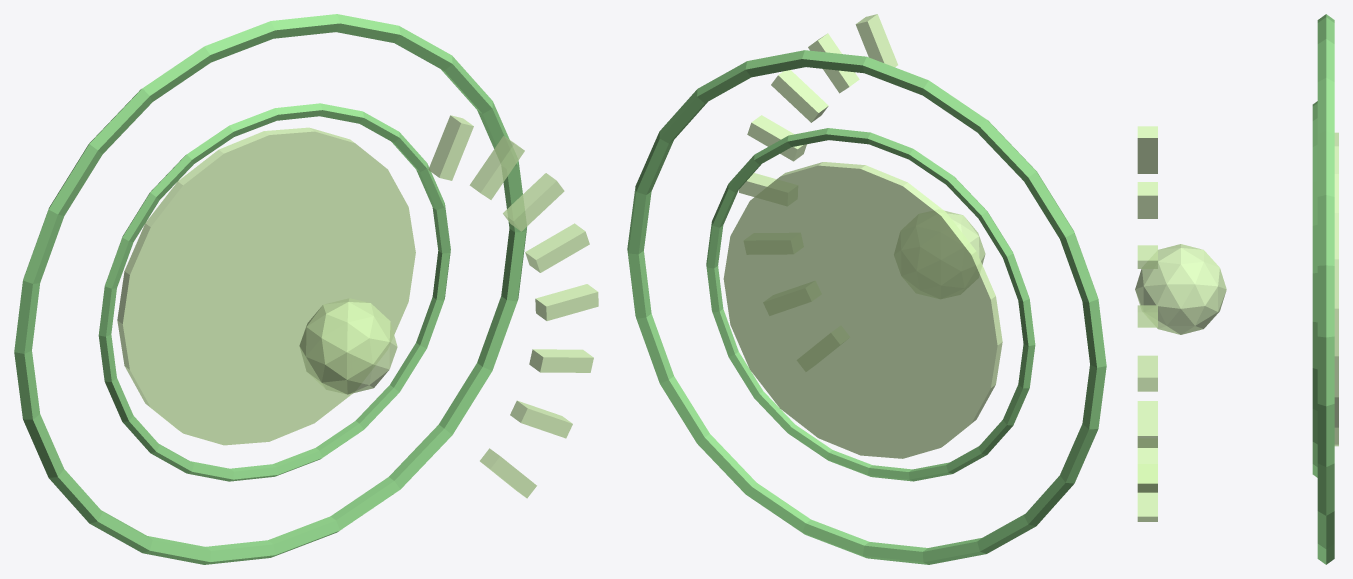
File: 01_class_special_attack_vfx.glb
The picture shows the model from 3 angles, left to right: view 1: azimuth 30°, elevation 25°; view 2: azimuth 150°, elevation 25°; view 3: azimuth 270°, elevation 25°; orthographic projection. The views are drawn at different scales.
Visible parts, largest first — view 1: ability_cast_disc, shockwave, ability_outer_ring, class_energy_core, attack_flow_arc_seg_7, attack_flow_arc_seg_5, attack_flow_arc_seg_6, attack_flow_arc_seg_4, attack_flow_arc_seg_3, attack_flow_arc_seg_2, attack_flow_arc_seg_1, attack_flow_arc_seg_0; view 2: ability_cast_disc, shockwave, ability_outer_ring, attack_flow_arc_seg_5, attack_flow_arc_seg_7, attack_flow_arc_seg_4, attack_flow_arc_seg_6, class_energy_core; view 3: shockwave, class_energy_core, ability_outer_ring, ability_cast_disc, attack_flow_arc_seg_7, attack_flow_arc_seg_2, attack_flow_arc_seg_1, attack_flow_arc_seg_6, attack_flow_arc_seg_3, attack_flow_arc_seg_0, attack_flow_arc_seg_5, attack_flow_arc_seg_4.
Part boxes in pixels (box(x1,y1,x2,y2)): ability_cast_disc: box(117, 127, 415, 445); shockwave: box(14, 14, 527, 564); ability_outer_ring: box(98, 103, 450, 481); class_energy_core: box(299, 298, 397, 394); attack_flow_arc_seg_7: box(428, 115, 473, 180); attack_flow_arc_seg_5: box(503, 173, 564, 231); attack_flow_arc_seg_6: box(469, 136, 524, 199); attack_flow_arc_seg_4: box(525, 223, 589, 272); attack_flow_arc_seg_3: box(535, 284, 598, 320); attack_flow_arc_seg_2: box(529, 349, 593, 372); attack_flow_arc_seg_1: box(510, 400, 572, 438); attack_flow_arc_seg_0: box(480, 448, 536, 498); ability_cast_disc: box(723, 162, 1002, 458); shockwave: box(627, 50, 1106, 564); ability_outer_ring: box(706, 128, 1035, 481); attack_flow_arc_seg_5: box(771, 70, 828, 122); attack_flow_arc_seg_7: box(855, 14, 897, 67); attack_flow_arc_seg_4: box(747, 115, 806, 161); attack_flow_arc_seg_6: box(808, 33, 859, 93); class_energy_core: box(944, 210, 985, 264); shockwave: box(1317, 14, 1334, 564); class_energy_core: box(1135, 244, 1226, 334); ability_outer_ring: box(1312, 101, 1317, 477); ability_cast_disc: box(1334, 132, 1338, 446); attack_flow_arc_seg_7: box(1137, 126, 1157, 173); attack_flow_arc_seg_2: box(1137, 401, 1157, 447); attack_flow_arc_seg_1: box(1137, 448, 1157, 492); attack_flow_arc_seg_6: box(1137, 182, 1157, 218); attack_flow_arc_seg_3: box(1137, 355, 1157, 391); attack_flow_arc_seg_0: box(1137, 492, 1157, 521); attack_flow_arc_seg_5: box(1137, 245, 1157, 268); attack_flow_arc_seg_4: box(1137, 305, 1157, 327).
Bounding box in the file's own units: 2.17 × 2.17 × 0.8.
